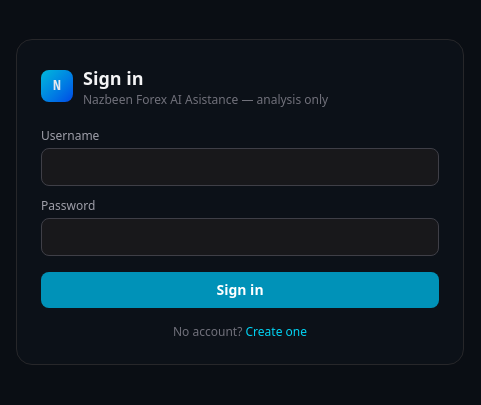
LoginPage › shows the backend's credential error verbatim and stays signed out
The image size is (481, 405).
Type "trader1" into the field with test id "login-username" at (240, 167), box left=41, top=148, right=439, bottom=186
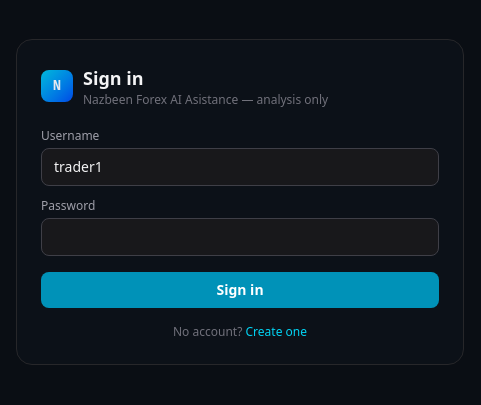
Type "wrong" into the password field with test id "login-password" at (240, 237), box left=41, top=218, right=439, bottom=256
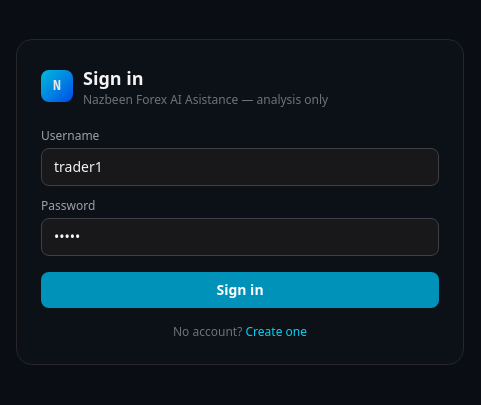
Click the button with test id "login-submit" at (240, 290), box left=41, top=272, right=439, bottom=308
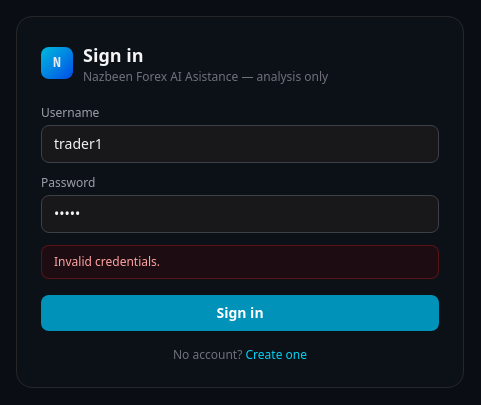
Check: the message with test id "login-error" reads "Invalid credentials.", box left=54, top=253, right=160, bottom=270
